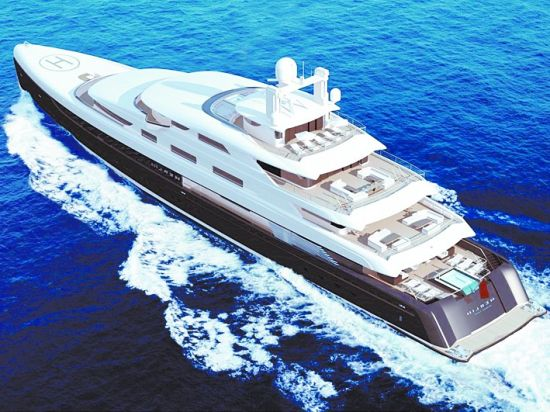yacht: (13, 37, 549, 362)
